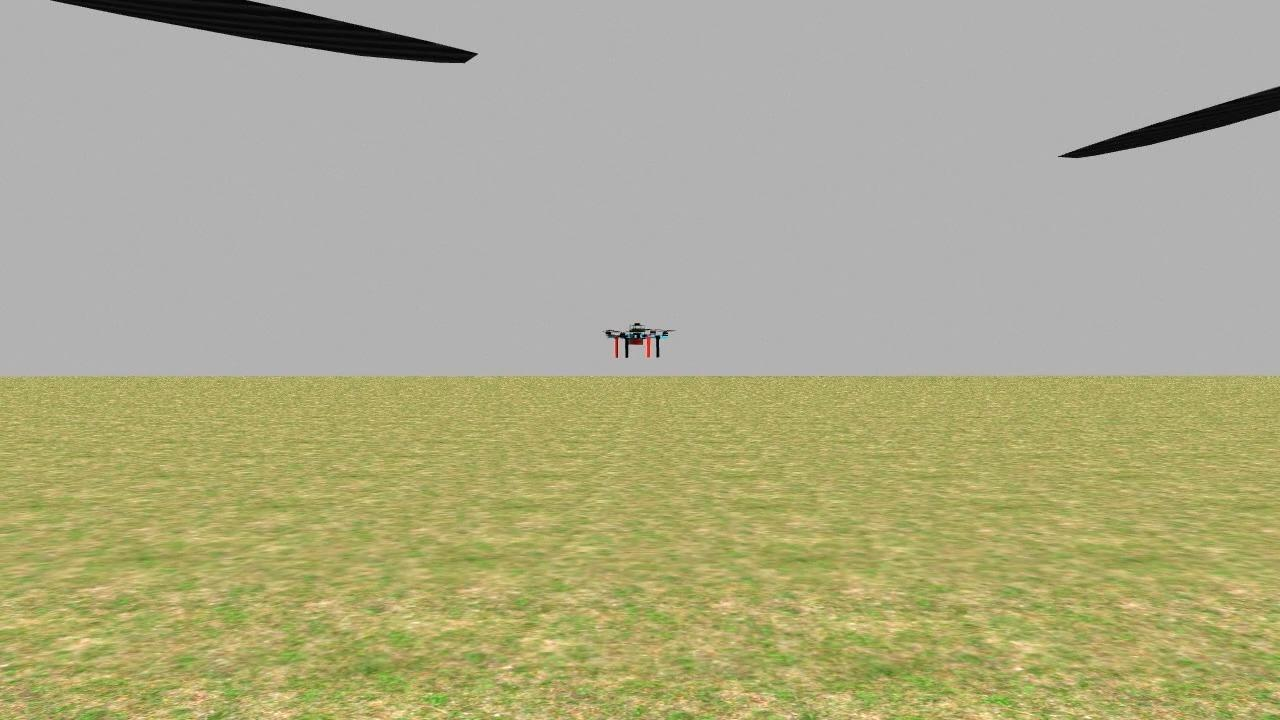UAV: (594, 310, 678, 361)
